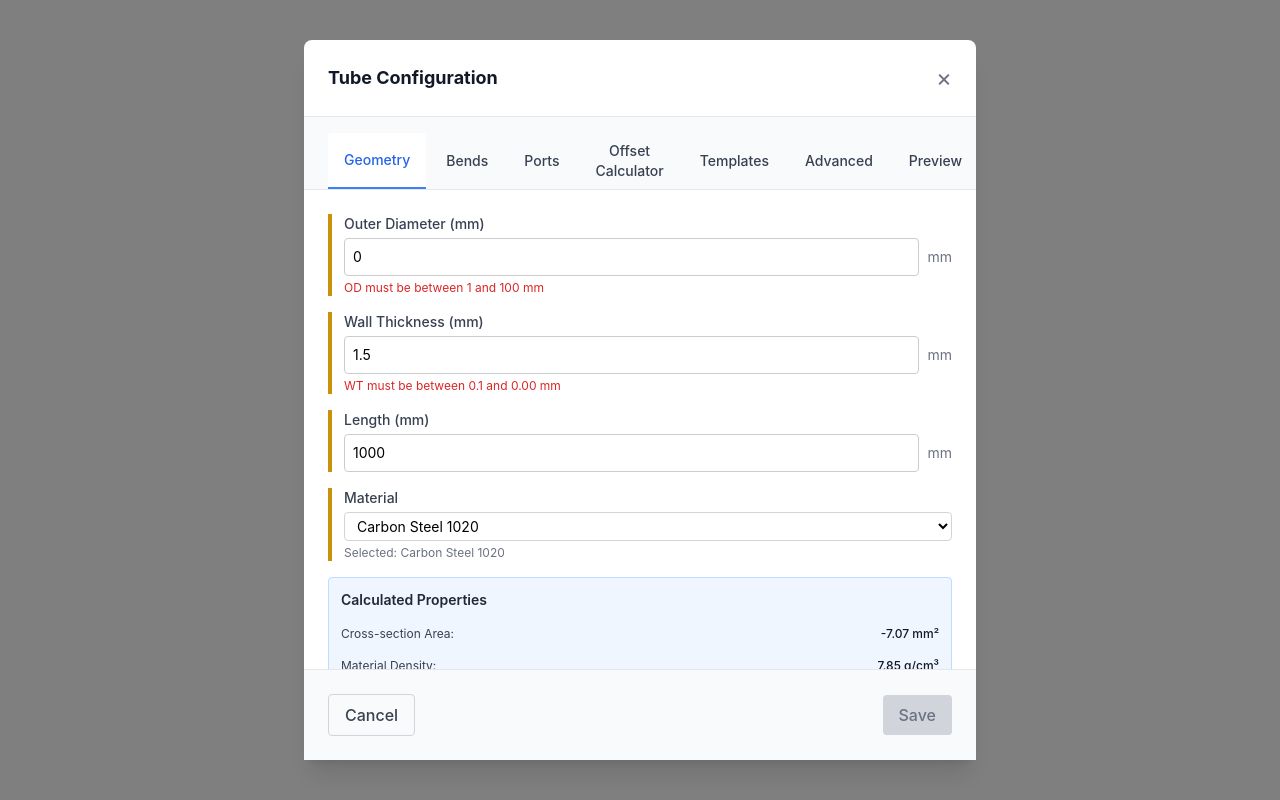
Test: TubeDialog › Tab Navigation › should switch to Ports tab
Click the tab "Ports" at (542, 161), box [508, 133, 576, 189]
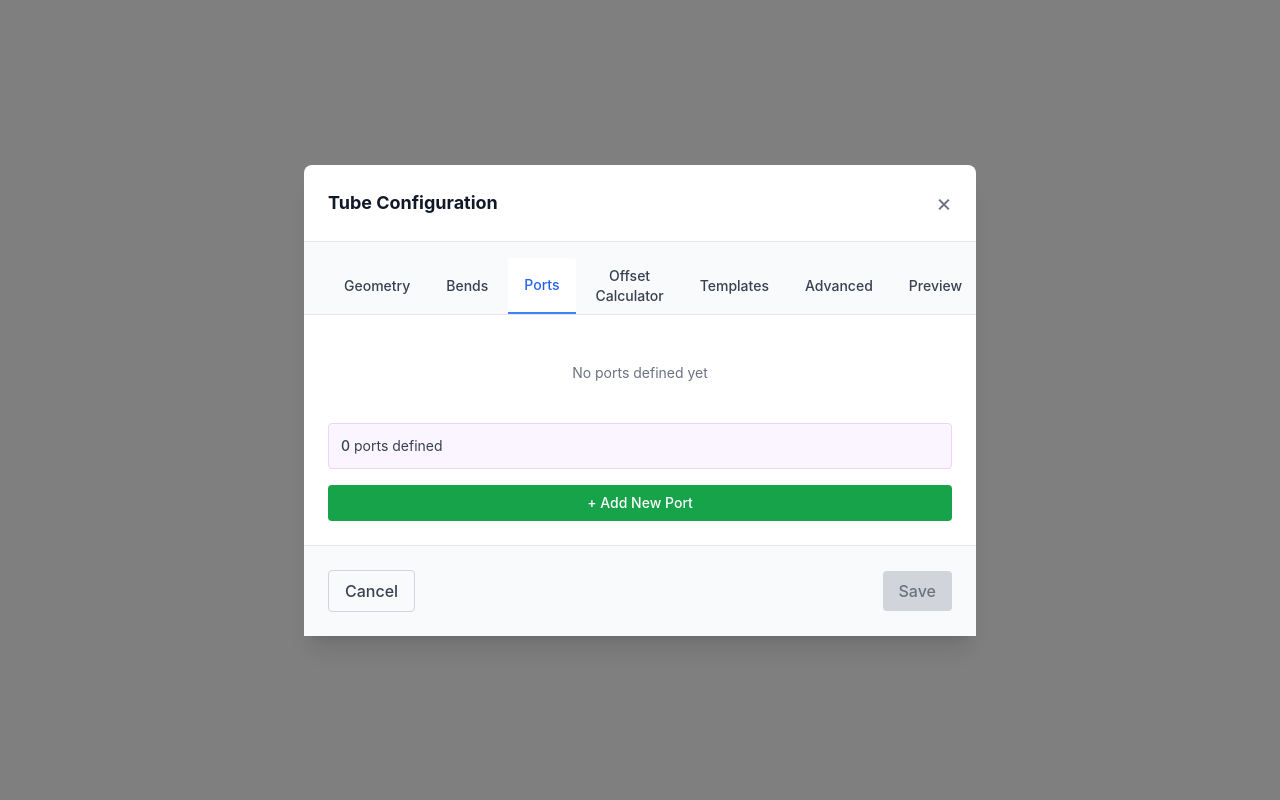
Expected: the button "+ Add New Port" is shown, [328, 484, 952, 520]
